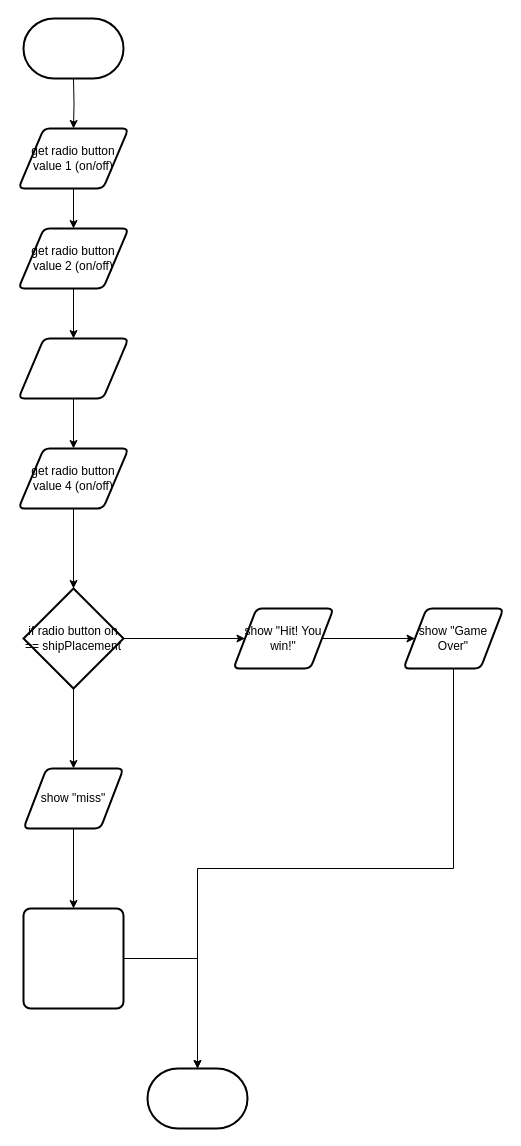
The diagram is 521 pixels wide and 1146 high, and some of its shapes have lost their labels. The shapes that lost their labels are listed below. From the top down, each one's centre as x and y in pixels, then its label:
(73,48): Start
(73,368): get radio button value 3 (on/off)
(73,958): change colour of radio button "miss"
(197,1098): Stop
